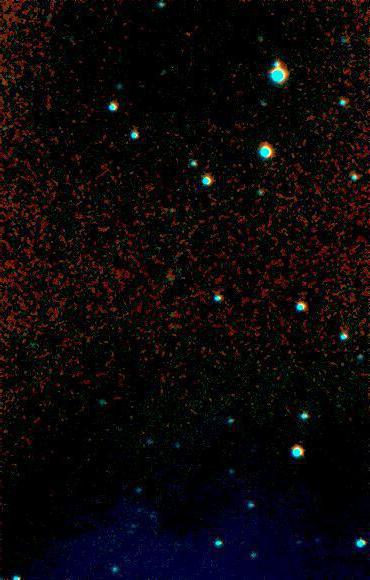star: (172, 19, 202, 49)
